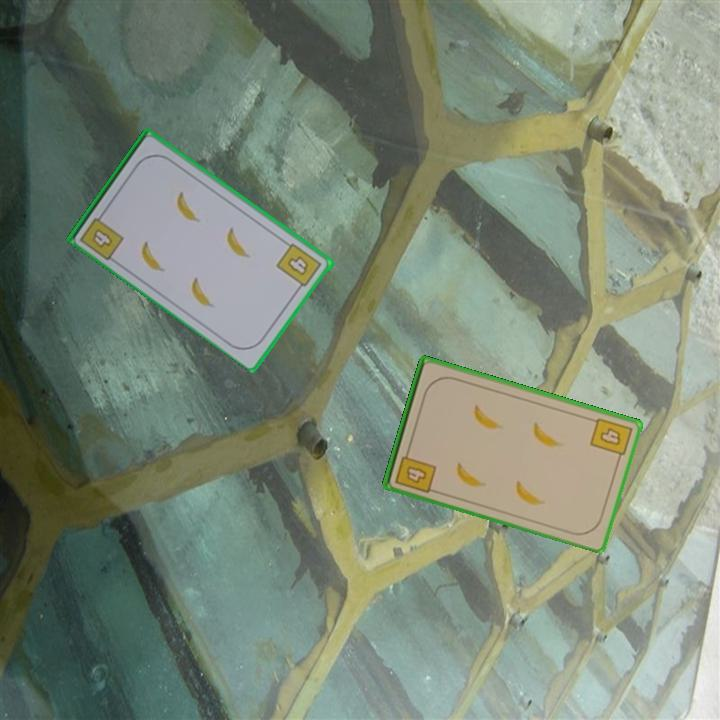4b: (273, 239, 325, 294), (391, 444, 439, 496), (586, 414, 635, 464), (89, 225, 116, 251)
